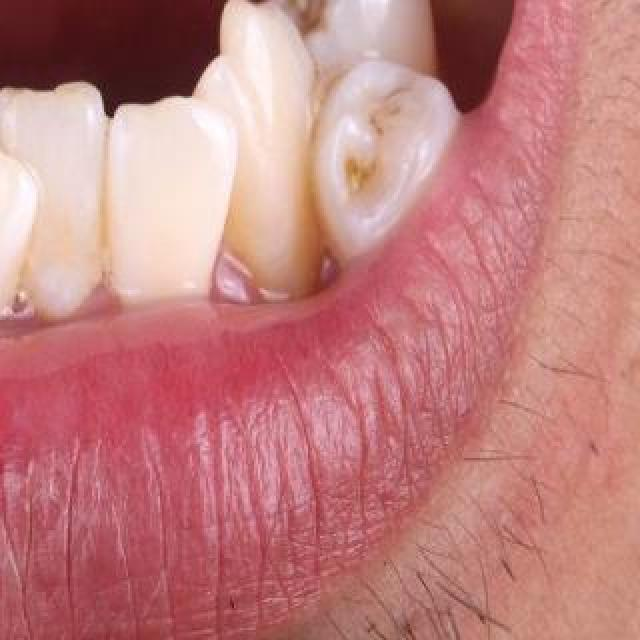maligned: (303, 63, 467, 269), (0, 116, 38, 352)
